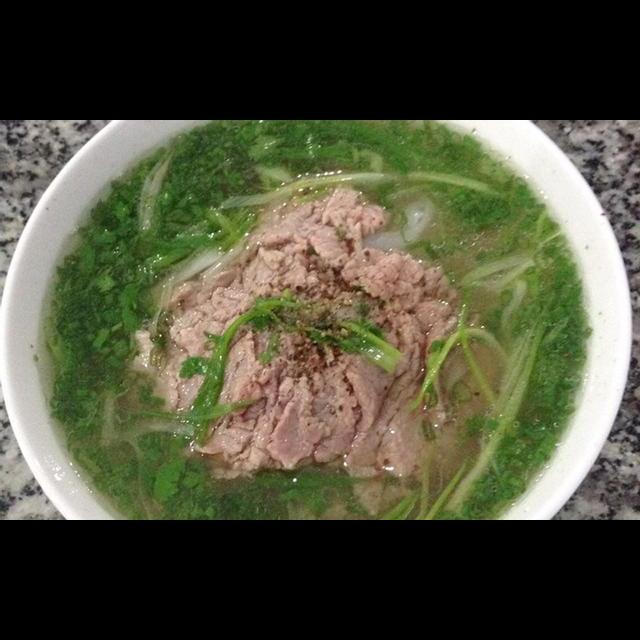thit bo: (138, 180, 480, 506)
